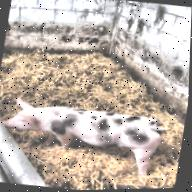boar: (0, 92, 169, 186)
